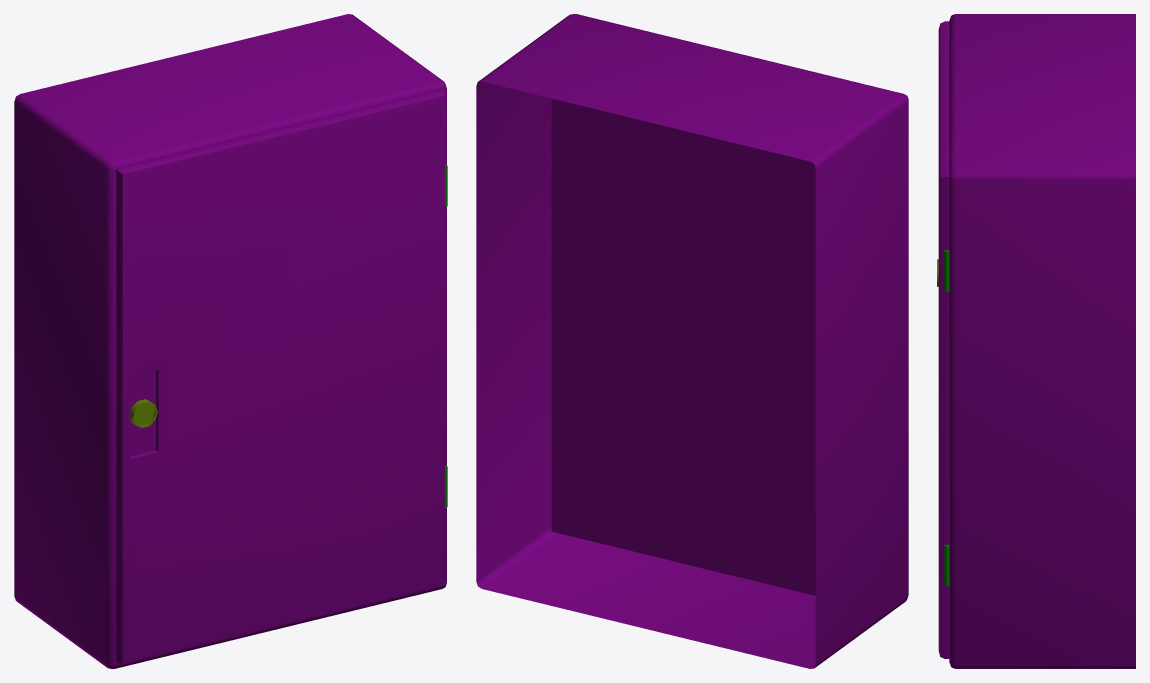
The model's file is SM_Switchboard.fbx.
3 views of the same model, side by side, from view 1: azimuth 30°, elevation 25°; view 2: azimuth 150°, elevation 25°; view 3: azimuth 270°, elevation 25° (orthographic). The views are drawn at different scales.
Parts seen in each view (by area): view 1: SM_Switchboard_Door, SM_Switchboard; view 2: SM_Switchboard; view 3: SM_Switchboard, SM_Switchboard_Door.
Boxes of the visible parts, x1,y1,x2,y2 form: SM_Switchboard_Door: (116,90,445,663); SM_Switchboard: (14,14,447,668); SM_Switchboard: (476,14,908,668); SM_Switchboard: (944,14,1135,668); SM_Switchboard_Door: (937,21,949,658).
Bounding box in the file's own units: 46.51 × 66.45 × 24.09.
